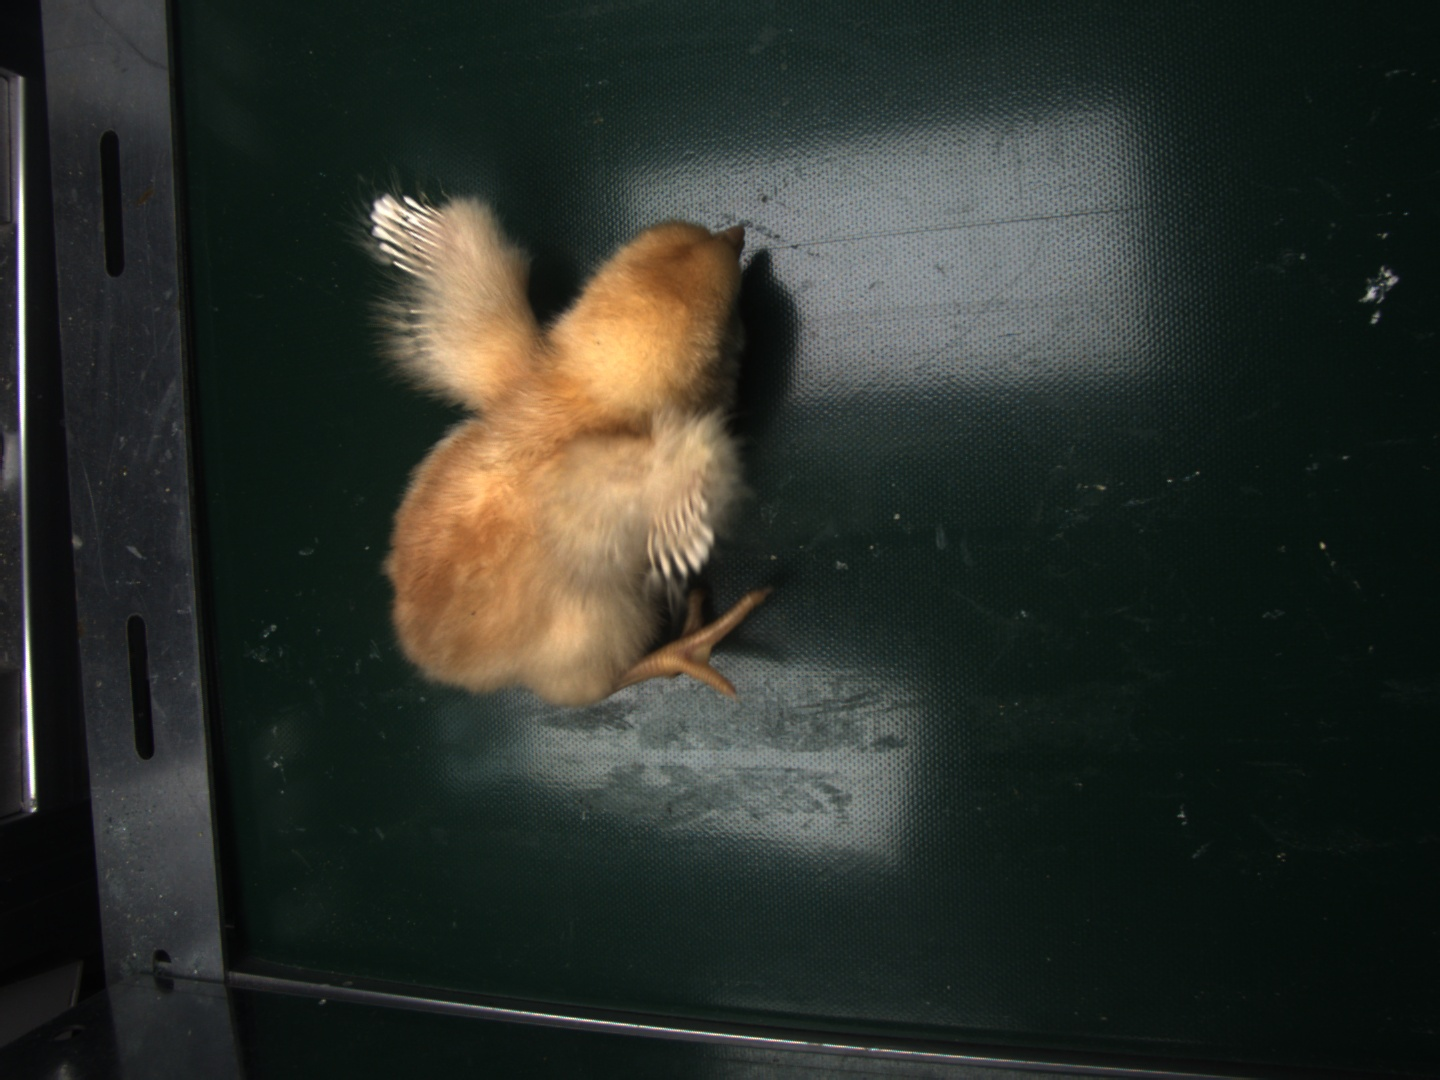female: (369, 194, 455, 279)
